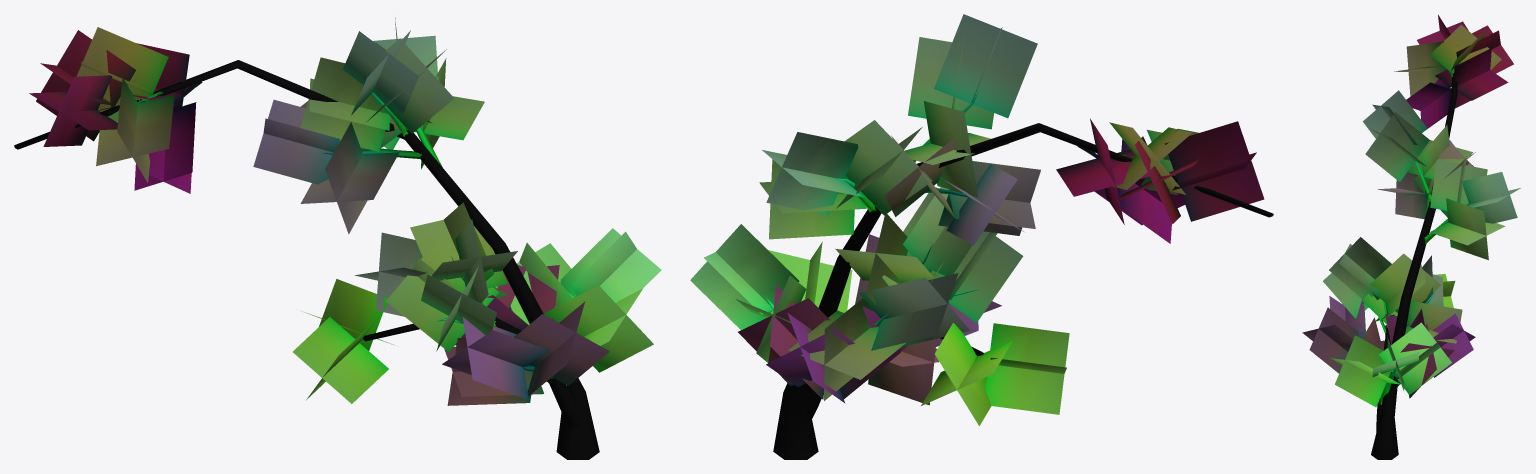
The model's file is URP_P5_Tree_11_LOD_3.fbx.
3 renders of one model, left to right at view 1: azimuth 30°, elevation 25°; view 2: azimuth 150°, elevation 25°; view 3: azimuth 270°, elevation 25°, orthographic. The views are drawn at different scales.
Visible parts, largest first — view 1: Tree_11_LOD_3; view 2: Tree_11_LOD_3; view 3: Tree_11_LOD_3.
Boxes of the visible parts, bbox=[...] form: Tree_11_LOD_3: bbox=[14, 17, 661, 459]; Tree_11_LOD_3: bbox=[690, 14, 1273, 459]; Tree_11_LOD_3: bbox=[1302, 14, 1520, 459].
Size of the model in its own units: 713 by 532 by 354.
